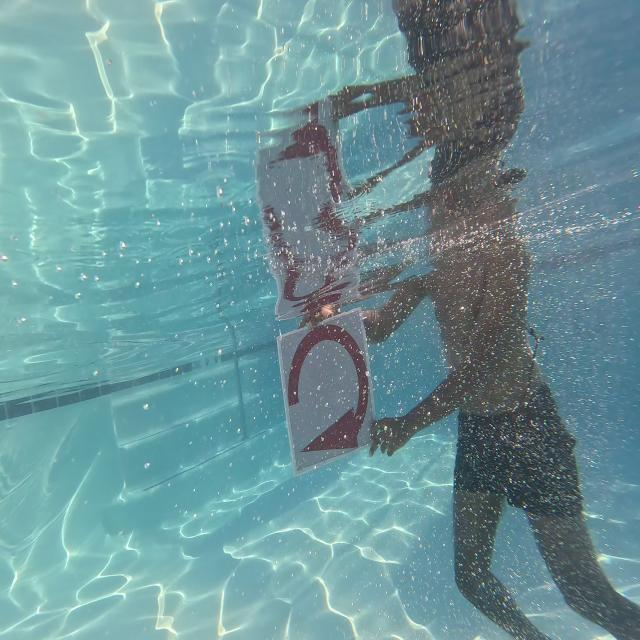red_side: (279, 309, 378, 461)
